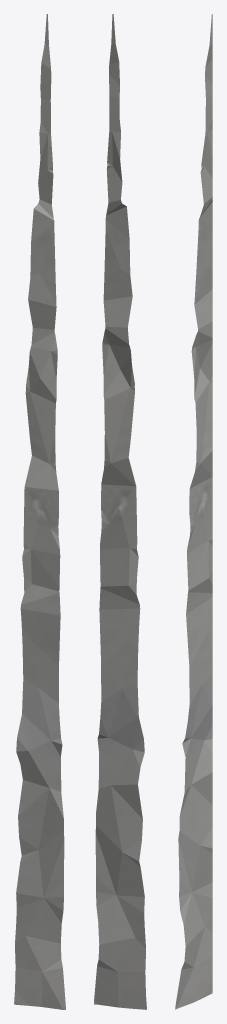
3 views of the same model, side by side, from view 1: azimuth 30°, elevation 25°; view 2: azimuth 210°, elevation 25°; view 3: azimuth 270°, elevation 25° (orthographic). The views are drawn at different scales.
Size of the model in its own units: 0.0298 by 0.8373 by 0.0284.
Materials: 1 (1 with a texture image).
